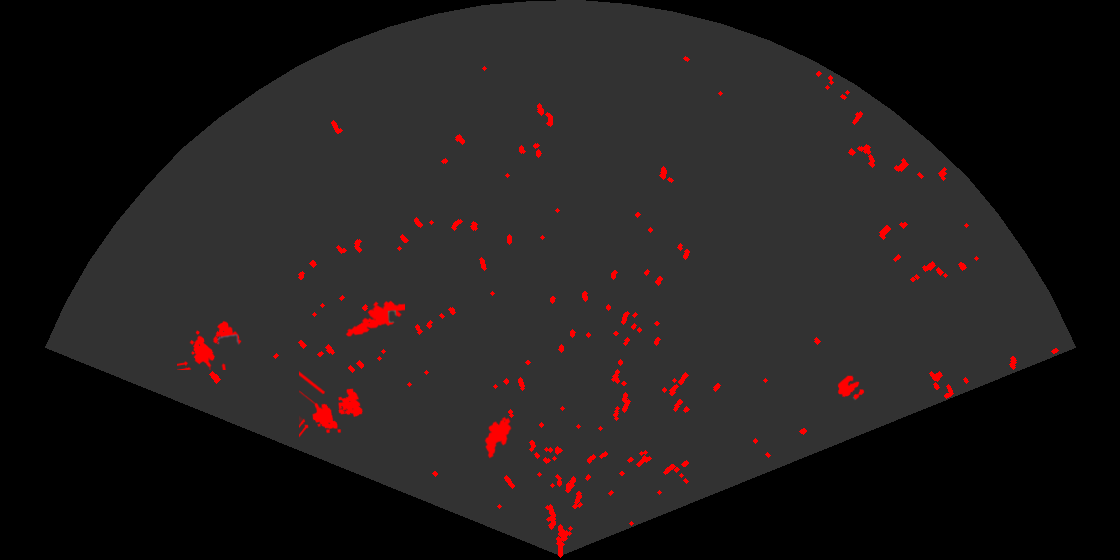AUV: (483, 415, 513, 460)
ball: (836, 374, 866, 401)
cage: (299, 371, 364, 439), (177, 319, 243, 370)
frogman: (344, 299, 405, 338)
